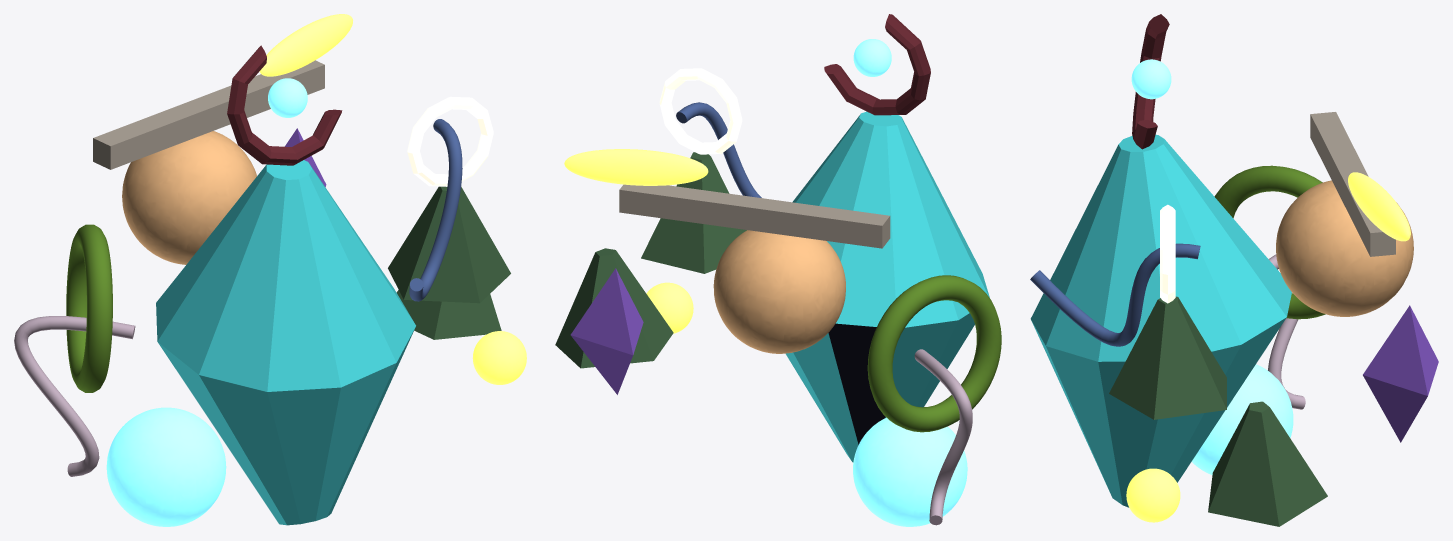
Rendered from library.glb.
3 renders of one model, left to right at view 1: azimuth 30°, elevation 25°; view 2: azimuth 150°, elevation 25°; view 3: azimuth 270°, elevation 25°, orthographic. The views are drawn at different scales.
Parts seen in each view (by area): view 1: Cylinder_blue, Sphere_pink, Sphere_pink_lil.001, Cylinder, Cube, Circle, BezierCurve.001, Torus_half, Cylinder.001, Sphere_yellow, Torus, BezierCurve (+2 smaller); view 2: Cylinder_blue, Sphere_pink, Circle, Cube, Sphere_pink_lil.001, Cone, Cylinder.001, Cylinder, Sphere_yellow, Torus_half, Torus, BezierCurve.001 (+3 smaller); view 3: Cylinder_blue, Sphere_pink, Cylinder, Cylinder.001, Cone, Cube, Sphere_pink_lil.001, BezierCurve, Circle, Sphere_yellow.001, Sphere_yellow, Torus_half (+3 smaller).
Part boxes in pixels (box(x1,y1,x2,y2)): Cylinder_blue: box(156, 160, 415, 525); Sphere_pink: box(122, 131, 256, 264); Sphere_pink_lil.001: box(106, 407, 226, 526); Cylinder: box(388, 186, 510, 303); Cube: box(93, 60, 324, 169); Circle: box(66, 224, 112, 392); BezierCurve.001: box(14, 316, 135, 476); Torus_half: box(227, 45, 342, 165); Cylinder.001: box(396, 290, 501, 339); Sphere_yellow: box(259, 14, 352, 76); Torus: box(407, 96, 493, 186); BezierCurve: box(409, 119, 462, 301); Cylinder_blue: box(786, 111, 989, 462); Sphere_pink: box(713, 230, 845, 353); Circle: box(867, 275, 1001, 432); Cube: box(619, 184, 890, 248); Sphere_pink_lil.001: box(853, 417, 967, 526); Cone: box(570, 268, 643, 394); Cylinder.001: box(555, 248, 673, 368); Cylinder: box(641, 152, 746, 273); Sphere_yellow: box(564, 149, 708, 185); Torus_half: box(824, 14, 930, 115); Torus: box(659, 68, 742, 154); BezierCurve.001: box(914, 349, 972, 525); Cylinder_blue: box(1030, 134, 1291, 507); Sphere_pink: box(1276, 180, 1413, 316); Cylinder: box(1109, 296, 1226, 419); Cylinder.001: box(1208, 401, 1327, 526); Cone: box(1363, 305, 1438, 442); Cube: box(1310, 112, 1395, 256); Sphere_pink_lil.001: box(1191, 364, 1293, 475); BezierCurve: box(1030, 243, 1200, 346); Circle: box(1214, 165, 1325, 319); Sphere_yellow.001: box(1126, 468, 1180, 522); Sphere_yellow: box(1348, 172, 1410, 241); Torus_half: box(1132, 14, 1169, 149).
Bounding box in the file's own units: 2.01 × 2.06 × 1.56.
2 materials, 2 textured.
